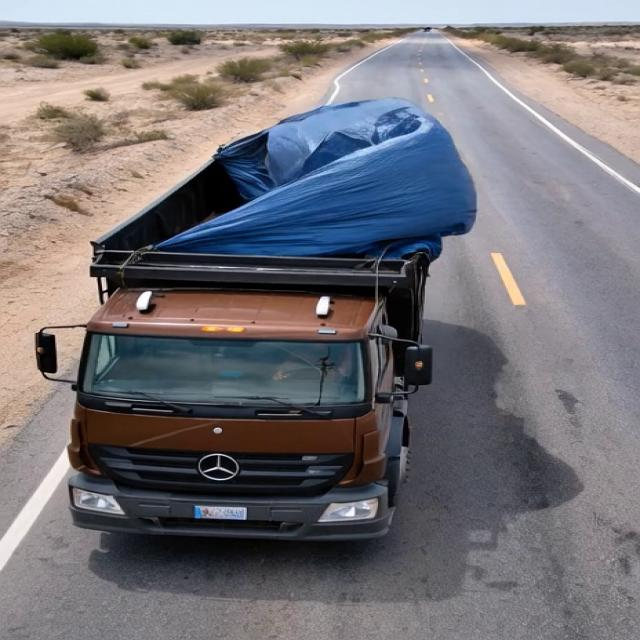trailer: (89, 146, 476, 296)
truck: (17, 100, 507, 550)
